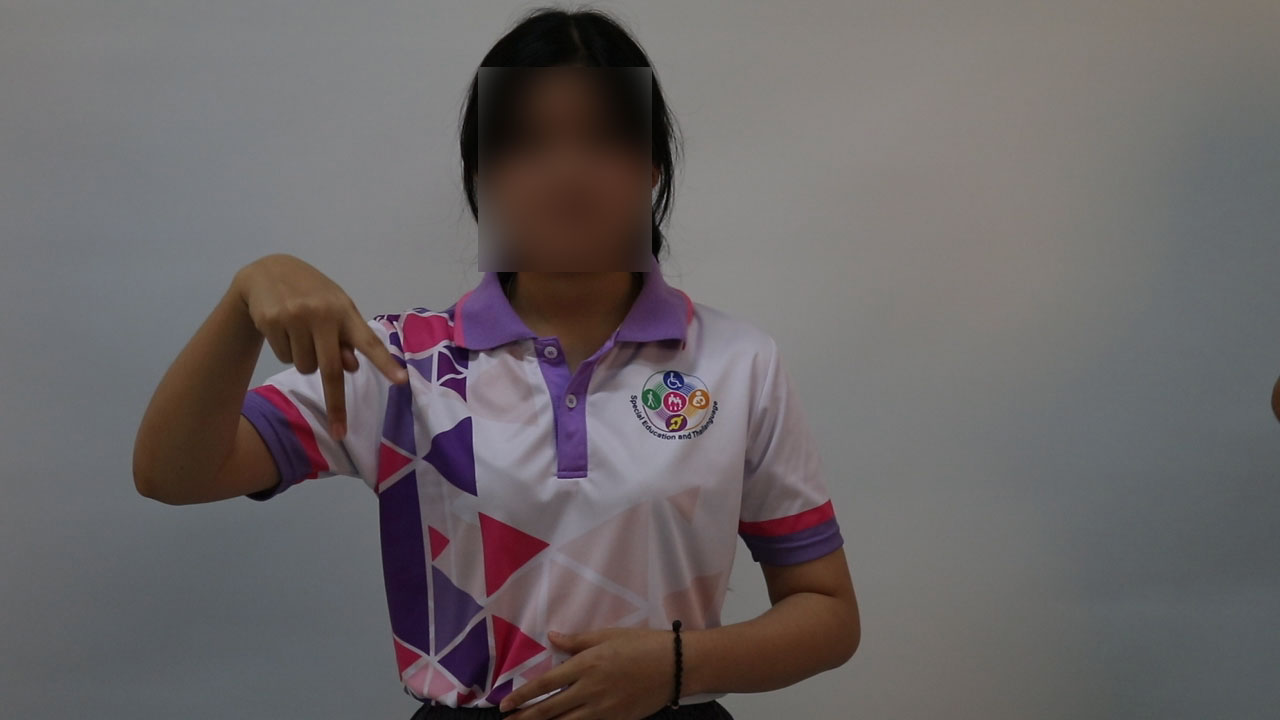por: (228, 234, 418, 448)
